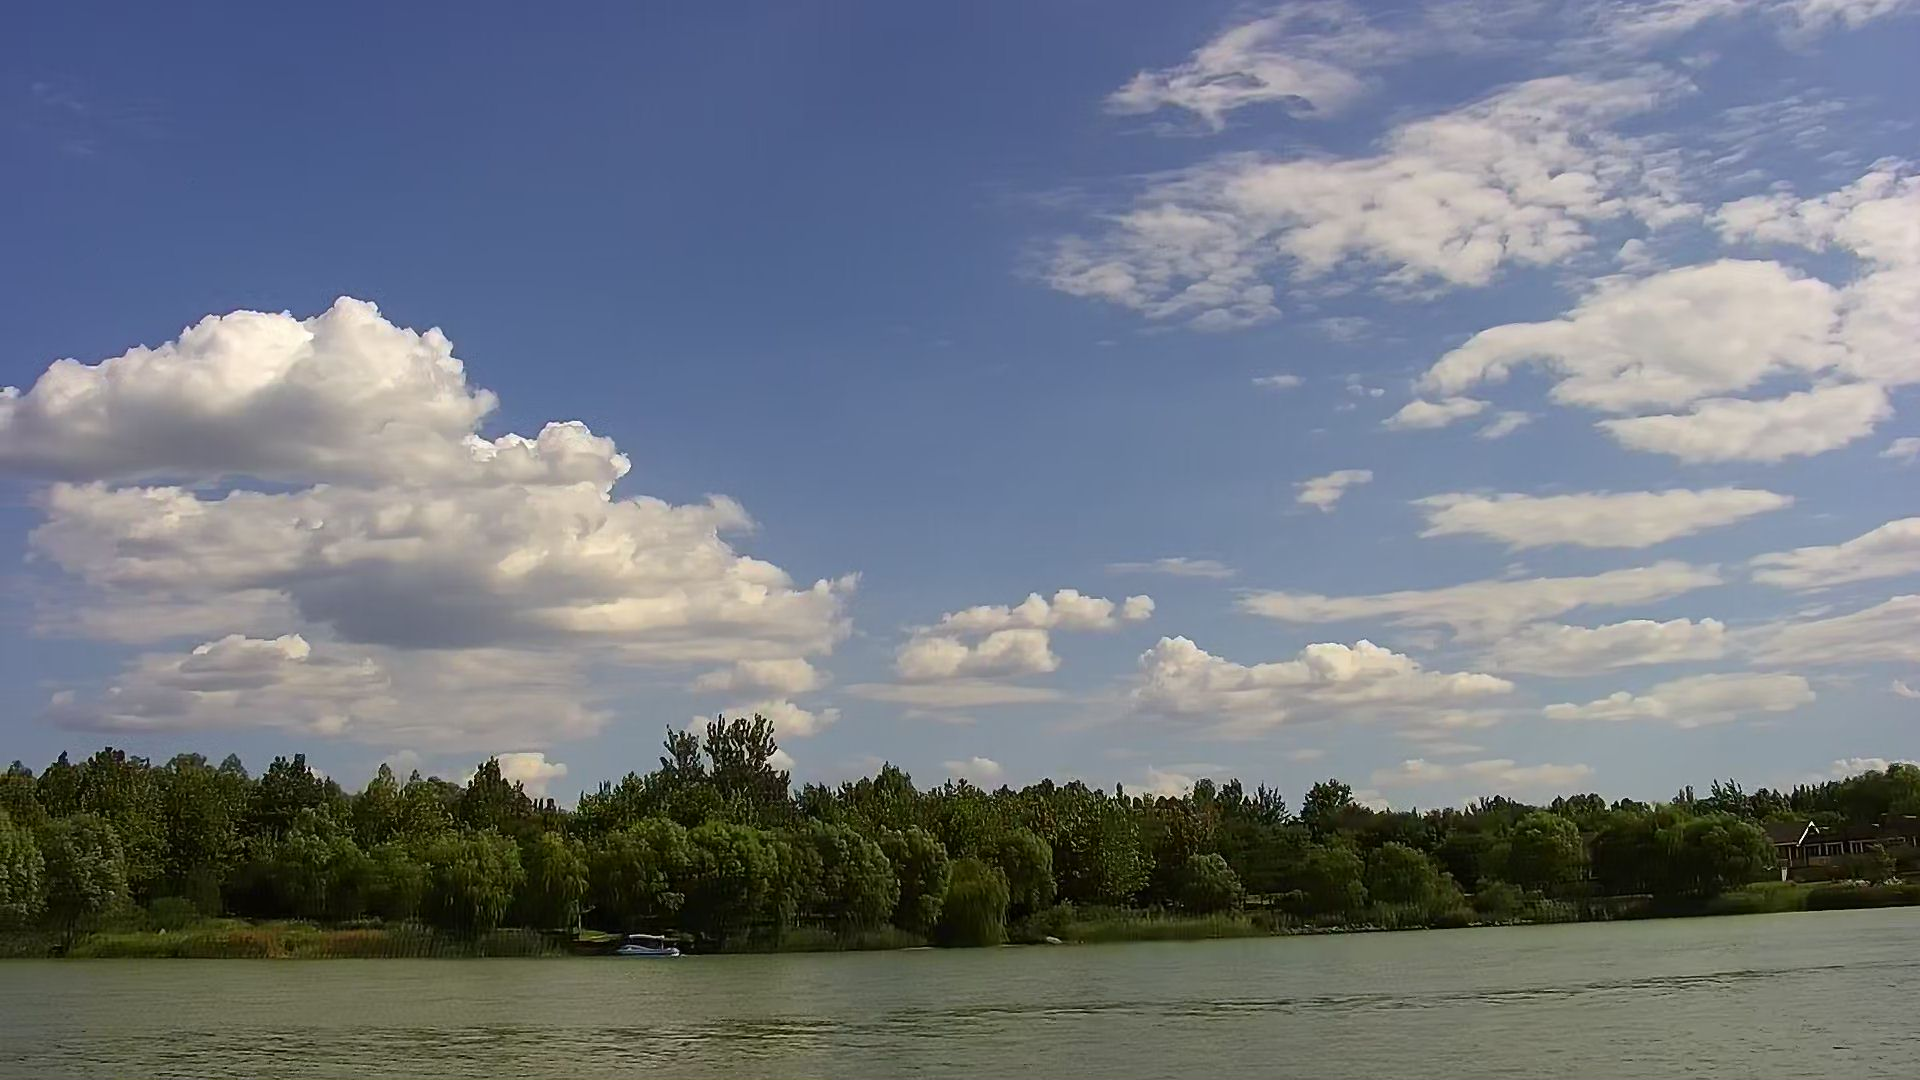boat: (612, 930, 683, 960)
